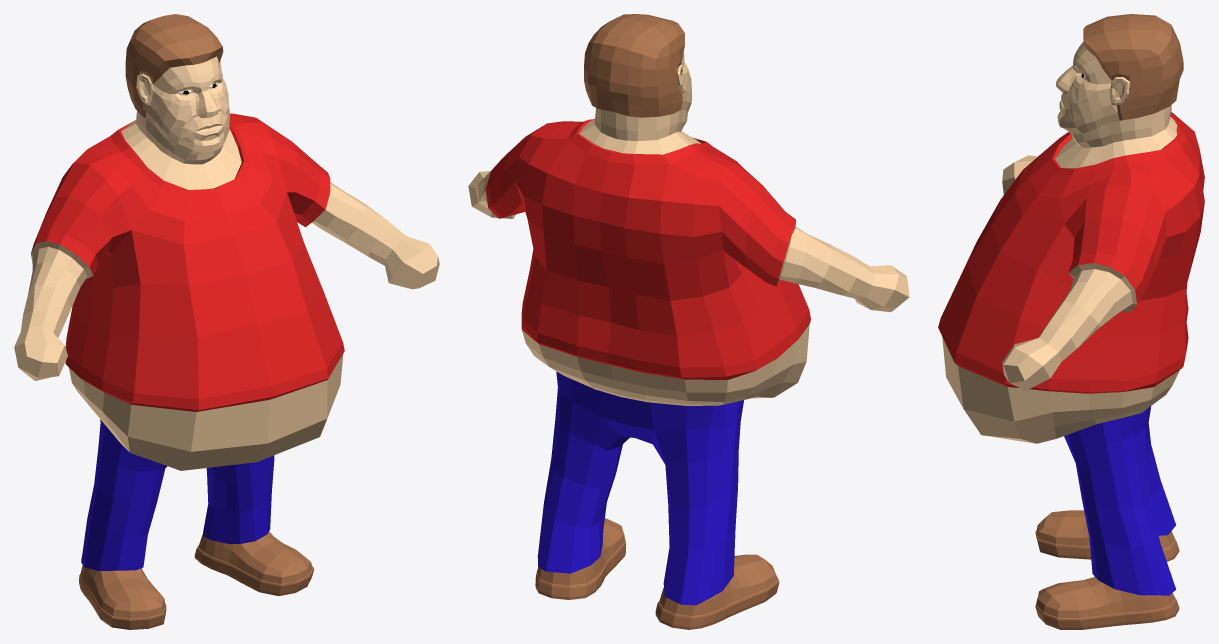
The model's file is Billy.fbx.
The picture shows the model from 3 angles, left to right: view 1: azimuth 30°, elevation 25°; view 2: azimuth 150°, elevation 25°; view 3: azimuth 270°, elevation 25°; orthographic projection. The views are drawn at different scales.
Visible parts, largest first — view 1: Billy LP; view 2: Billy LP; view 3: Billy LP.
Boxes of the visible parts, left/top/right/bottom form: Billy LP: left=14, top=14, right=439, bottom=629; Billy LP: left=468, top=14, right=909, bottom=629; Billy LP: left=938, top=14, right=1204, bottom=629.
Size of the model in its own units: 53.9 by 67.42 by 29.19.
